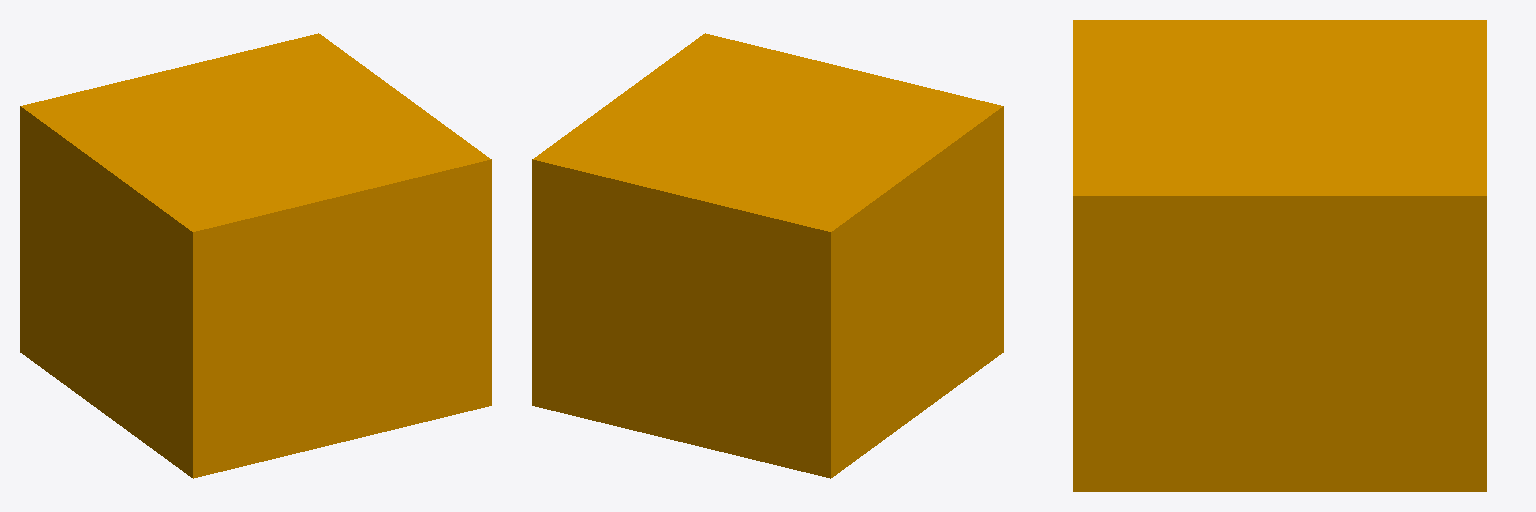
URDF robot description (2v2_nosensors_cuboid_medium):
<?xml version="1.0" ?>
<robot name="2v2_nosensors_cuboid_medium">

    <link name="2v2_nosensors_cuboid_medium">
        <visual>
            <origin rpy="1.5707963267948966 0 0" xyz="0 0 0"/>
            <geometry>
                <mesh filename="obj_files/2v2_nosensors_cuboid_medium.obj" scale="1 1 1"/>
            </geometry>
        </visual>
        <collision>
            <geometry>
                <mesh filename="obj_files/2v2_nosensors_cuboid_medium_collision.obj" scale="1 1 1"/>
            </geometry>
        </collision>
    </link>

</robot>

--- Render facts (derived) ---
3 views of the same robot in one strip: view 1: azimuth 30°, elevation 25°; view 2: azimuth 150°, elevation 25°; view 3: azimuth 270°, elevation 25° (orthographic).
Model 2v2_nosensors_cuboid_medium with 1 links and 0 joints (none), rooted at 2v2_nosensors_cuboid_medium, posed all joints at 0.
Visible links, largest first — view 1: 2v2_nosensors_cuboid_medium; view 2: 2v2_nosensors_cuboid_medium; view 3: 2v2_nosensors_cuboid_medium.
Link boxes in pixels (<box>): 2v2_nosensors_cuboid_medium: <box>20,33,491,478</box>; 2v2_nosensors_cuboid_medium: <box>532,33,1003,478</box>; 2v2_nosensors_cuboid_medium: <box>1073,20,1486,491</box>.
Size in the robot's own frame: 0.1217 by 0.1217 by 0.096 metres.
Meshes: 1 distinct files referenced, 1 mesh visuals loaded (1 OBJ).